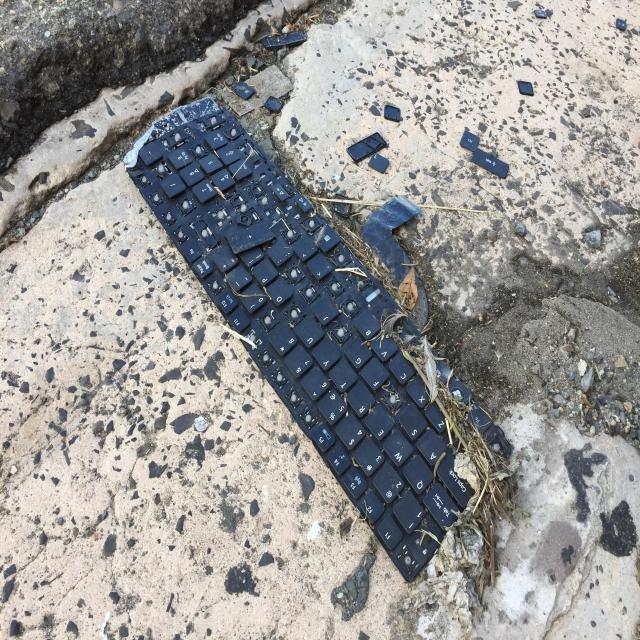litter: (126, 111, 513, 583)
